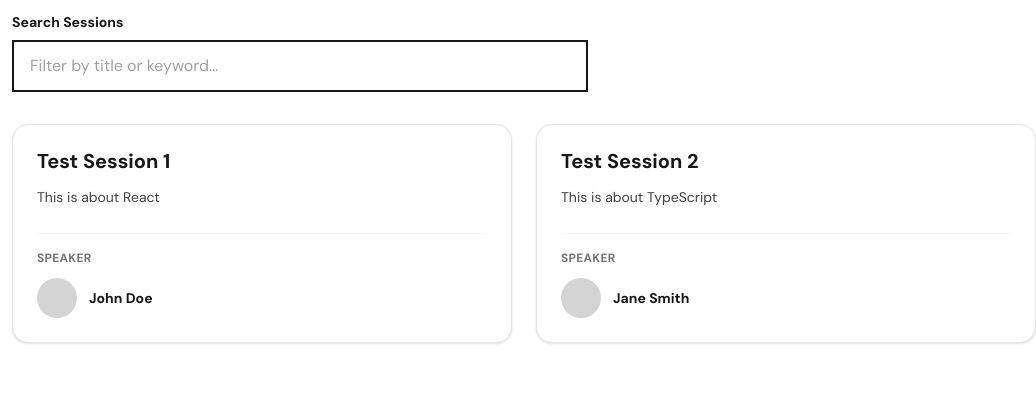
it: SessionsGrid › filters sessions by search query
This screenshot has width=1036, height=413.
Expected: the heading "Test Session 1" is shown, [37,148,170,174]
Expected: the heading "Test Session 2" is shown, [561,148,698,174]
Filter by React
Type "React" into the field with placeholder "Filter by title or keyword..." at (300,66), box [12,40,588,92]
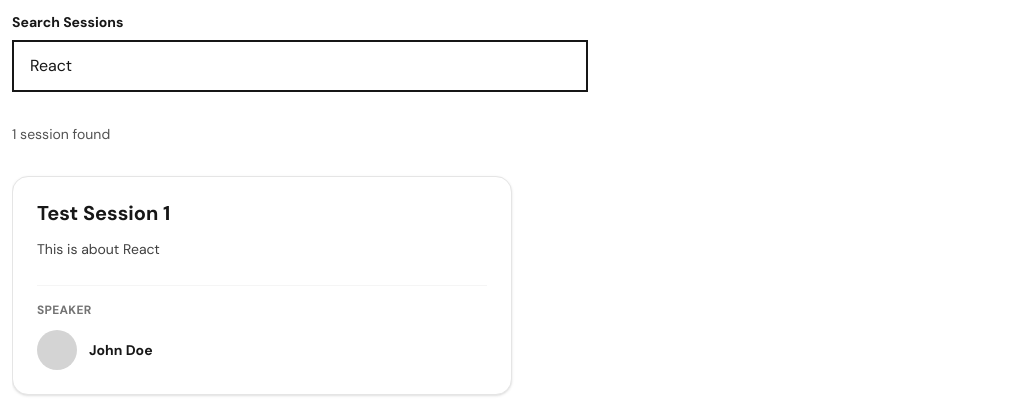
Expected: the heading "Test Session 1" is shown, [37,200,170,226]
Result: the link "Test Session 2" is gone
